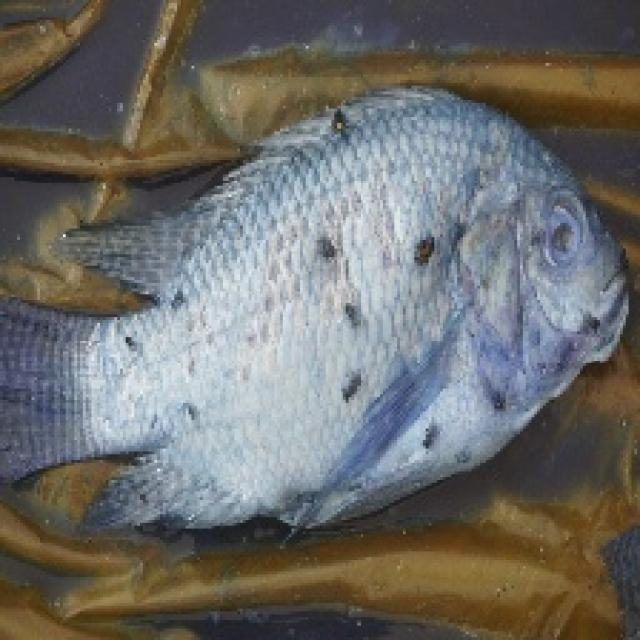Non-Fresh: (173, 218, 486, 456), (533, 185, 598, 283)
